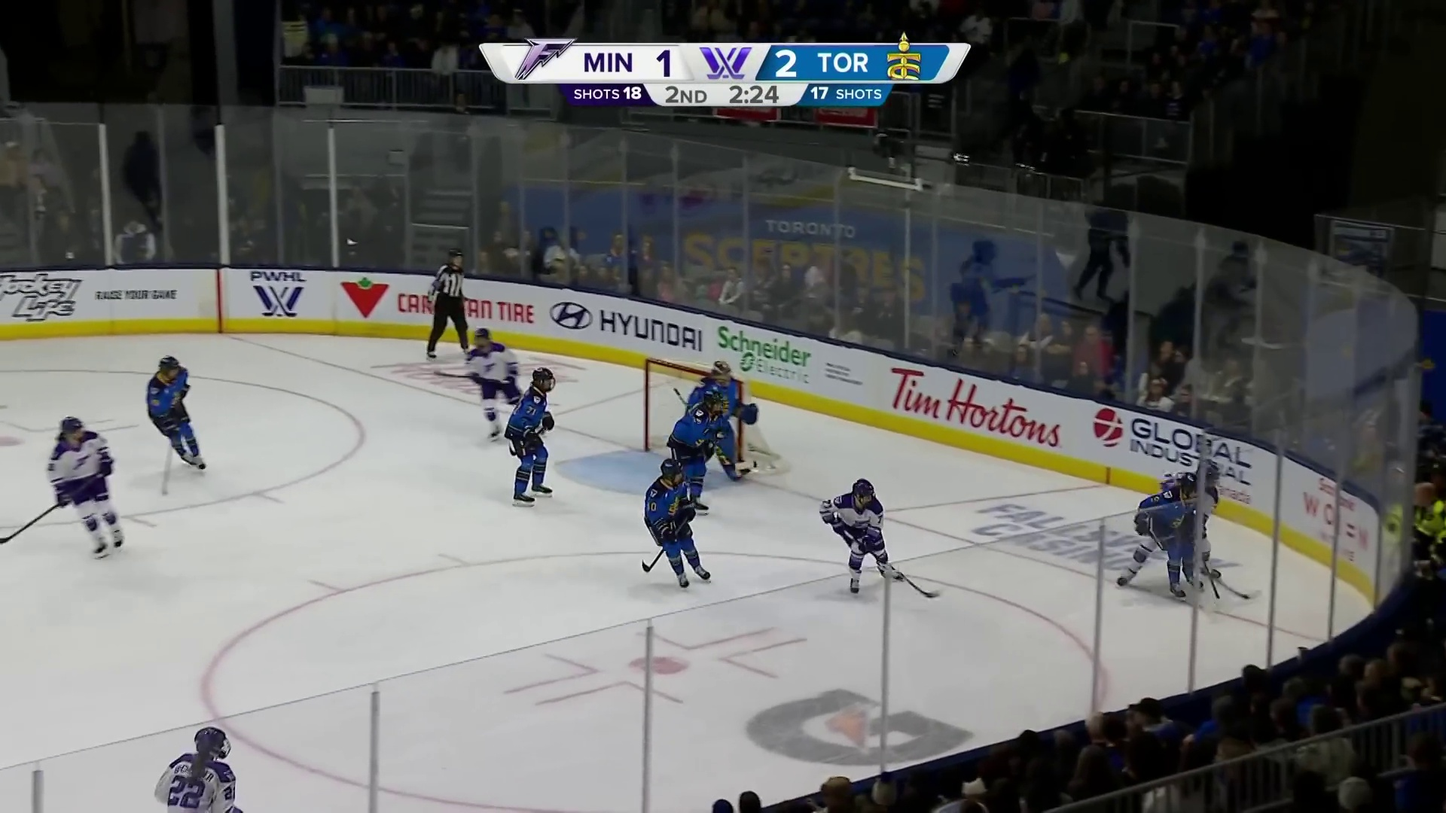goaltender: (683, 357, 758, 477)
player: (46, 414, 126, 559), (1112, 471, 1199, 602), (817, 477, 897, 597), (645, 457, 710, 587), (142, 355, 205, 468), (667, 391, 723, 513), (507, 367, 555, 508)
referee: (425, 247, 471, 358)
